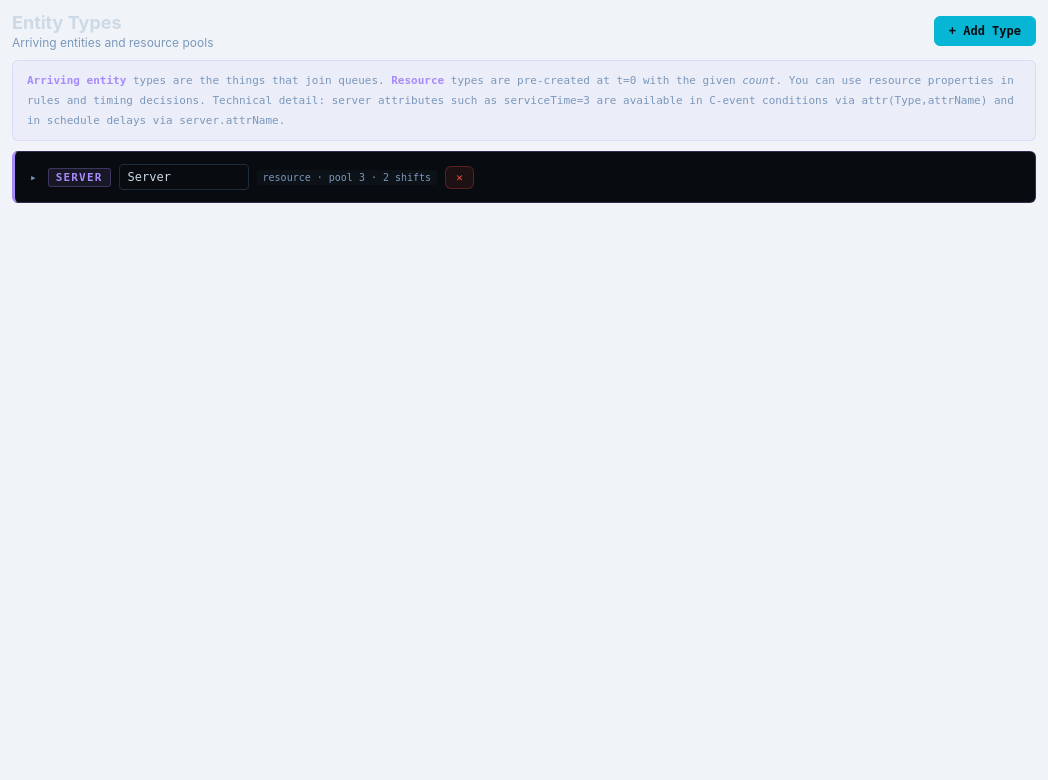
EntityTypeEditor — shift schedules (F7.6) › renders existing shift rows and locks the first start time
The image size is (1048, 780).
# Entity type card is collapsed by default — expand it first
Click the button named "Expand".
click(33, 177)  # box [27,170,40,185]
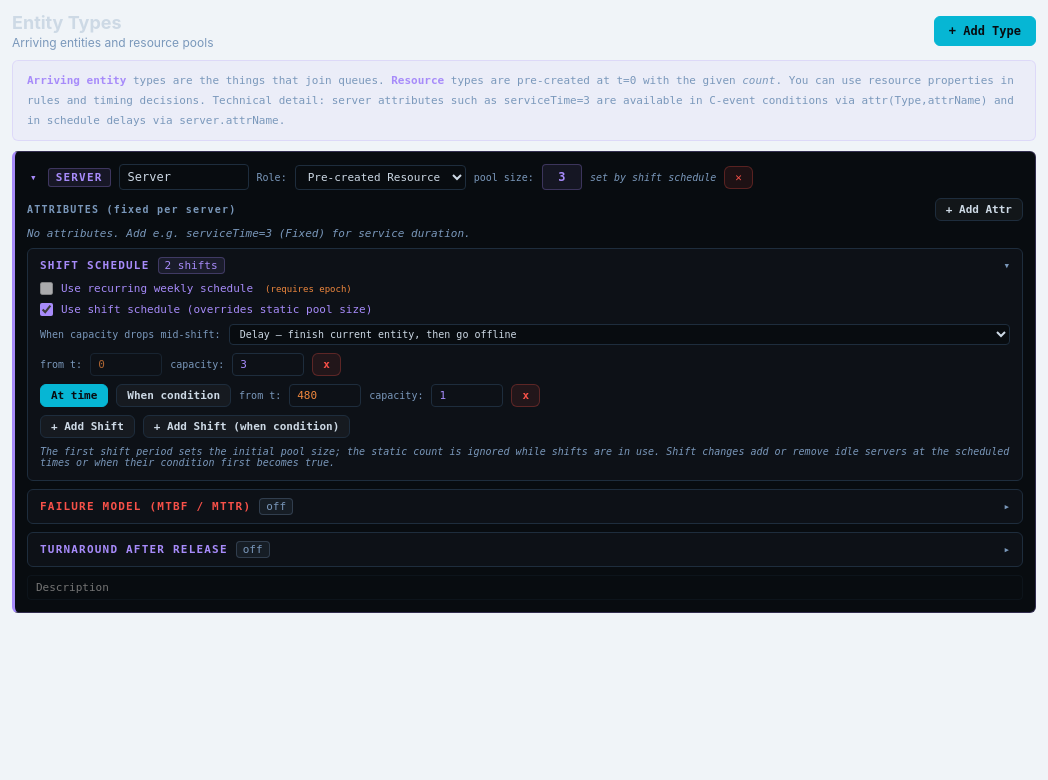
expect the button "+ Add Shift" is shown: met, box [40,415,135,438]
expect the 1st number field is shown: met, box [90,353,162,376]
expect the number of number fields showing "3" is 1: met, box [232,353,304,376]
